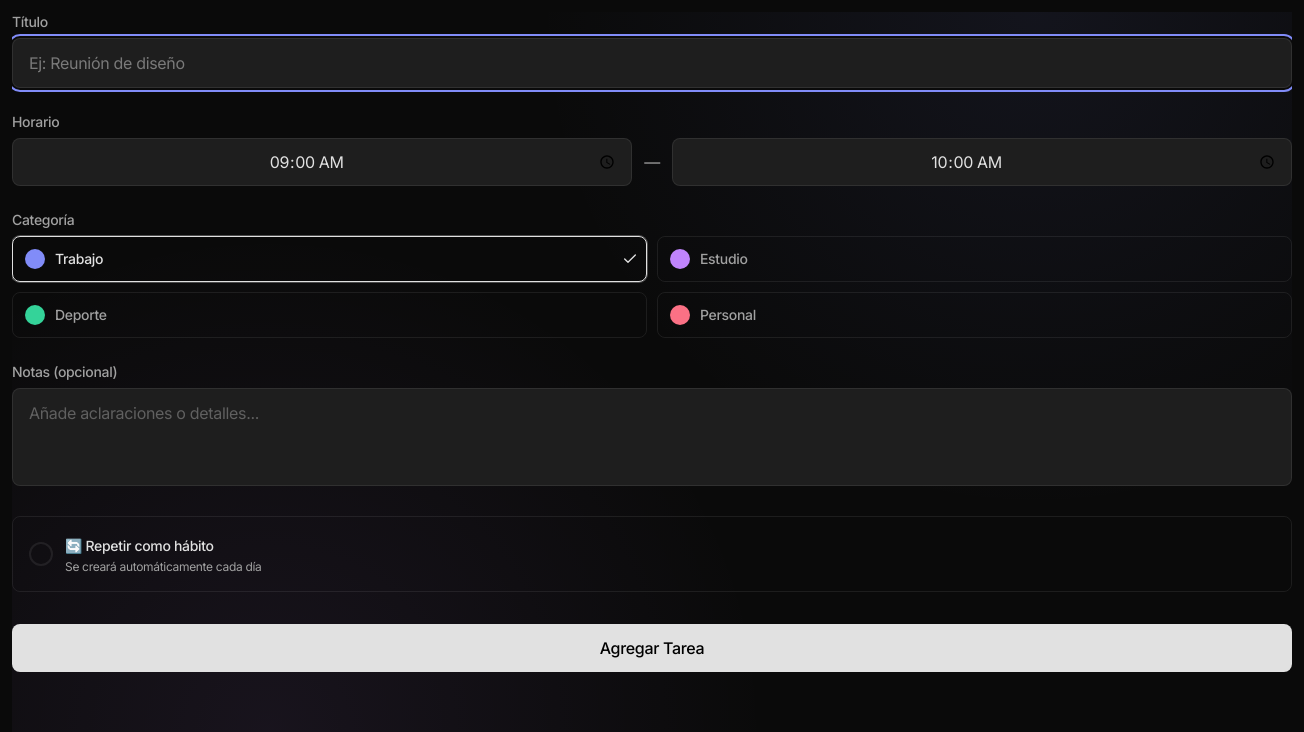
TaskForm › shows error when title is too short
The image size is (1304, 732).
Type "A" into the field with placeholder "Ej: Reunión de diseño". click: [652, 63]
box: [12, 38, 1292, 88]
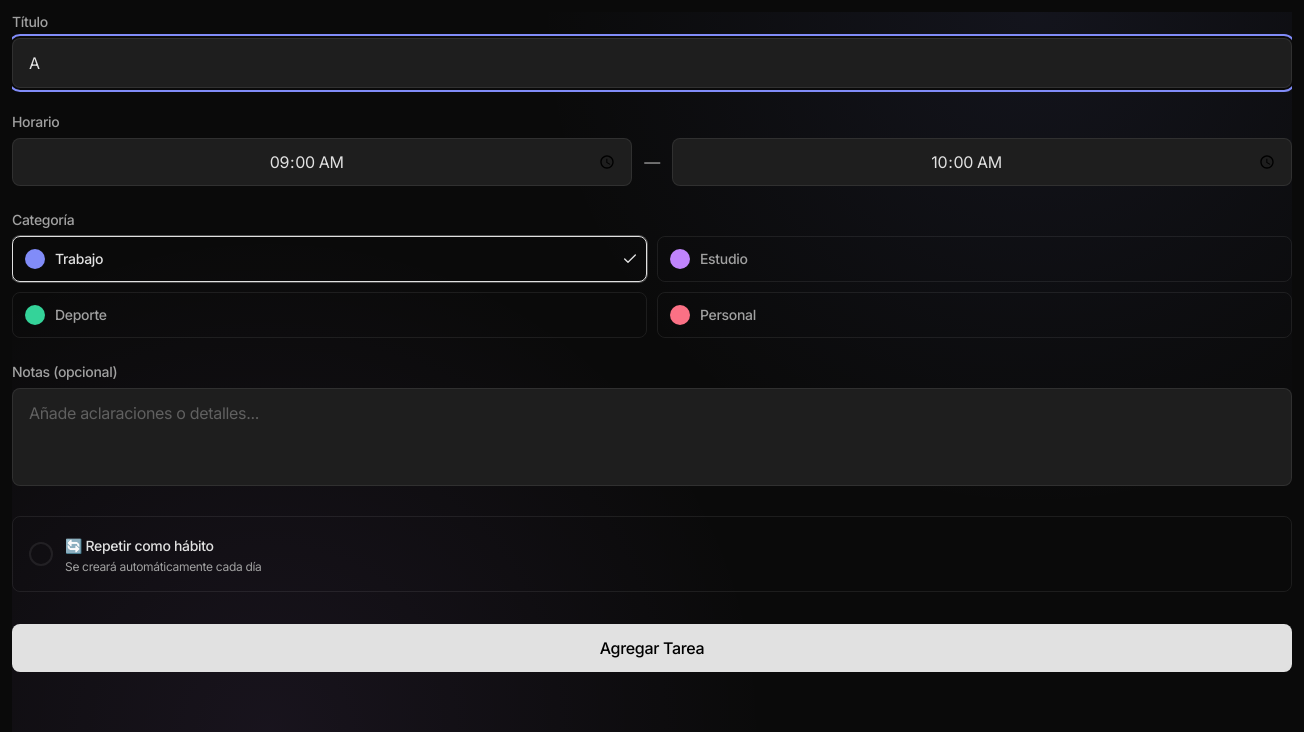
Press Tab
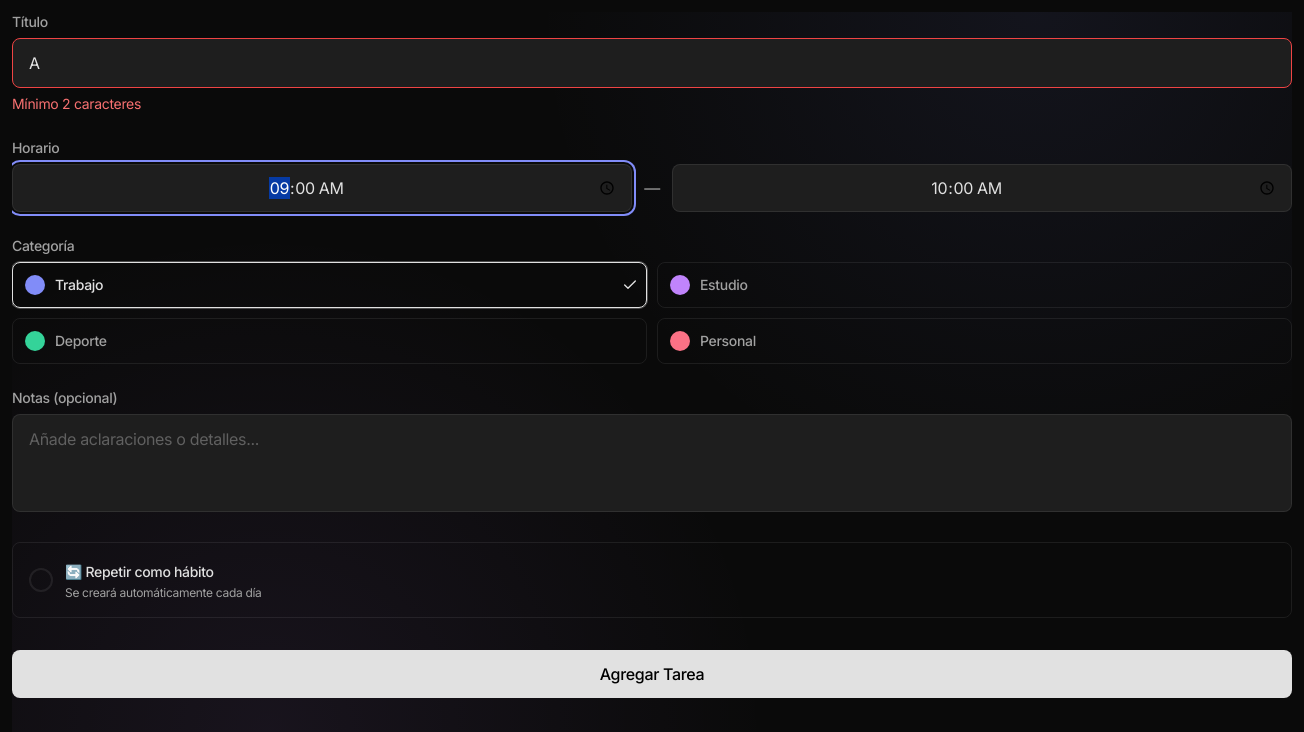
Expected: the text "Mínimo 2 caracteres" is shown, [12, 95, 141, 112]
